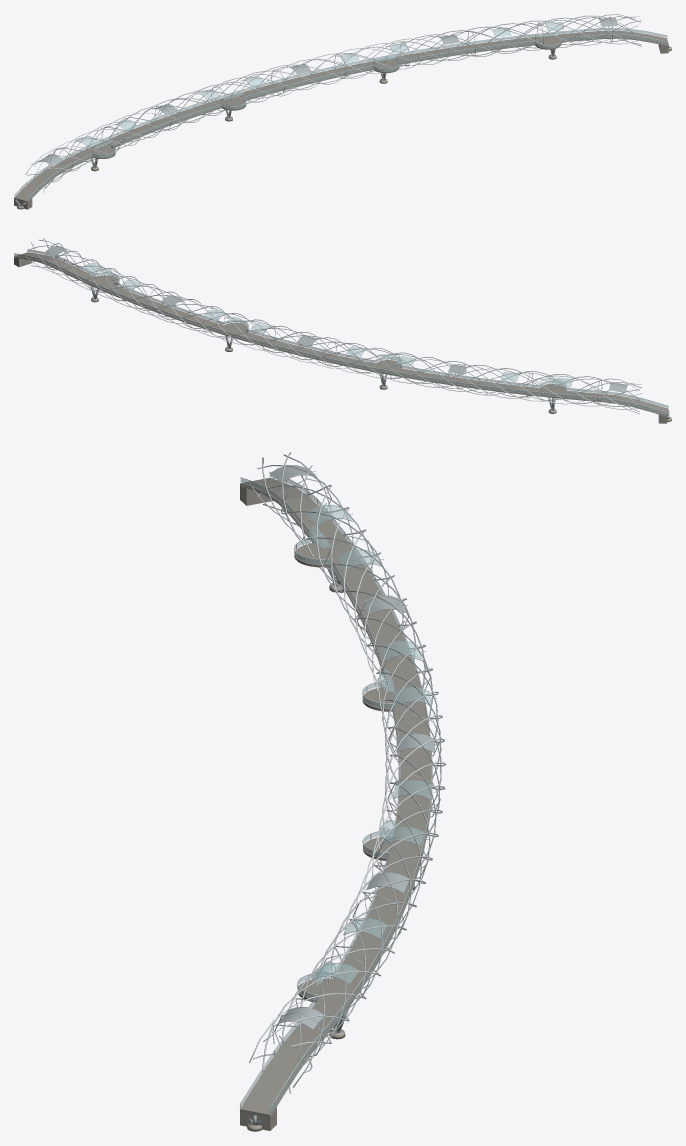
File: sg-helix-bridge.glb
3 renders of one model, top to bottom at view 1: azimuth 30°, elevation 25°; view 2: azimuth 150°, elevation 25°; view 3: azimuth 270°, elevation 25°, orthographic. The views are drawn at different scales.
Parts seen in each view (by area): view 1: Outer helix | 6 stainless steel tubes, Deck edges | railings and stainless posts, Inner helix | 5 stainless steel tubes, Walkway canopy | alternating fritted glass and mesh, Deck span 02 | pedestrian slab, Deck span 03 | pedestrian slab, Deck span 04 | pedestrian slab, Deck span 05 | access ramp, Deck span 01 | access ramp, Helix truss | cross rings and radial ties; view 2: Outer helix | 6 stainless steel tubes, Deck edges | railings and stainless posts, Inner helix | 5 stainless steel tubes, Walkway canopy | alternating fritted glass and mesh, Deck span 04 | pedestrian slab, Deck span 03 | pedestrian slab, Deck span 02 | pedestrian slab, Deck span 05 | access ramp, Deck span 01 | access ramp, Helix truss | cross rings and radial ties; view 3: Outer helix | 6 stainless steel tubes, Walkway canopy | alternating fritted glass and mesh, Inner helix | 5 stainless steel tubes, Deck span 02 | pedestrian slab, Deck span 04 | pedestrian slab, Deck span 03 | pedestrian slab, Deck span 01 | access ramp, Deck edges | railings and stainless posts, Deck span 05 | access ramp, Helix truss | cross rings and radial ties.
Part boxes in pixels (x1,y1,x2,y2): Outer helix | 6 stainless steel tubes: (25,14,642,192); Deck edges | railings and stainless posts: (14,27,668,200); Inner helix | 5 stainless steel tubes: (27,16,642,188); Walkway canopy | alternating fritted glass and mesh: (38,18,617,166); Deck span 02 | pedestrian slab: (381,35,554,65); Deck span 03 | pedestrian slab: (224,59,386,102); Deck span 04 | pedestrian slab: (89,98,233,152); Deck span 05 | access ramp: (14,148,100,202); Deck span 01 | access ramp: (551,30,668,46); Helix truss | cross rings and radial ties: (54,16,612,172); Outer helix | 6 stainless steel tubes: (25,238,642,414); Deck edges | railings and stainless posts: (14,249,668,414); Inner helix | 5 stainless steel tubes: (28,240,641,412); Walkway canopy | alternating fritted glass and mesh: (45,246,627,392); Deck span 04 | pedestrian slab: (380,366,553,397); Deck span 03 | pedestrian slab: (224,328,386,372); Deck span 02 | pedestrian slab: (89,279,233,334); Deck span 05 | access ramp: (550,389,668,416); Deck span 01 | access ramp: (14,252,100,284); Helix truss | cross rings and radial ties: (45,246,605,404); Outer helix | 6 stainless steel tubes: (249,452,445,1093); Walkway canopy | alternating fritted glass and mesh: (269,465,440,1029); Inner helix | 5 stainless steel tubes: (253,454,441,1087); Deck span 02 | pedestrian slab: (322,848,423,1001); Deck span 04 | pedestrian slab: (322,548,422,698); Deck span 03 | pedestrian slab: (391,698,432,850); Deck span 01 | access ramp: (239,995,353,1117); Deck edges | railings and stainless posts: (240,471,431,1114); Deck span 05 | access ramp: (240,477,352,552); Helix truss | cross rings and radial ties: (274,478,441,1056).
Size of the model in its own units: 275 by 15.17 by 37.6.
